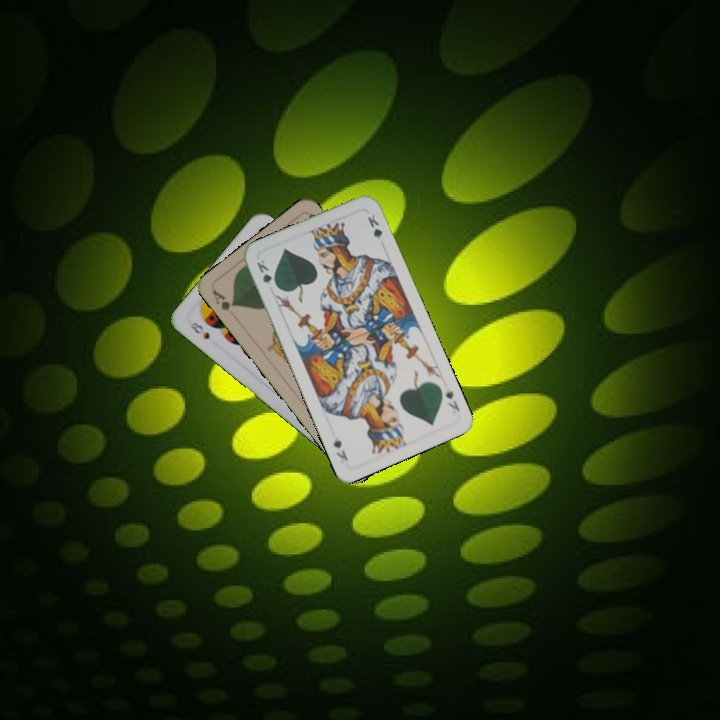GA: (208, 286, 238, 314)
GK: (252, 255, 280, 291), (441, 386, 463, 414)
S8: (186, 318, 212, 342)
